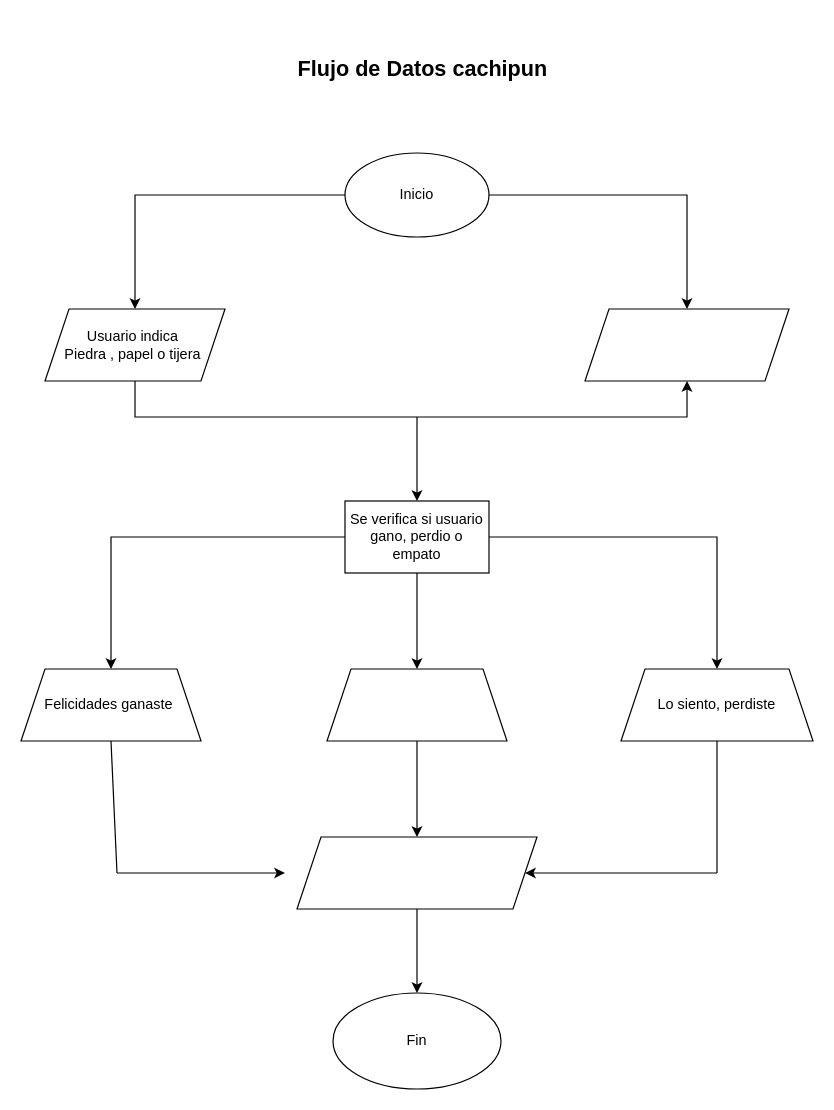
The diagram is 834 pixels wide and 1110 high, and some of its shapes have lost their labels. Each missing label, with the box of its shape:
Computador indica Piedra papel o tijera: (584, 308, 789, 381)
Mensaje si usuario indica valor diferente a piedra, papel o tijera: (296, 836, 537, 909)
Solo fue un empate: (326, 668, 507, 741)
